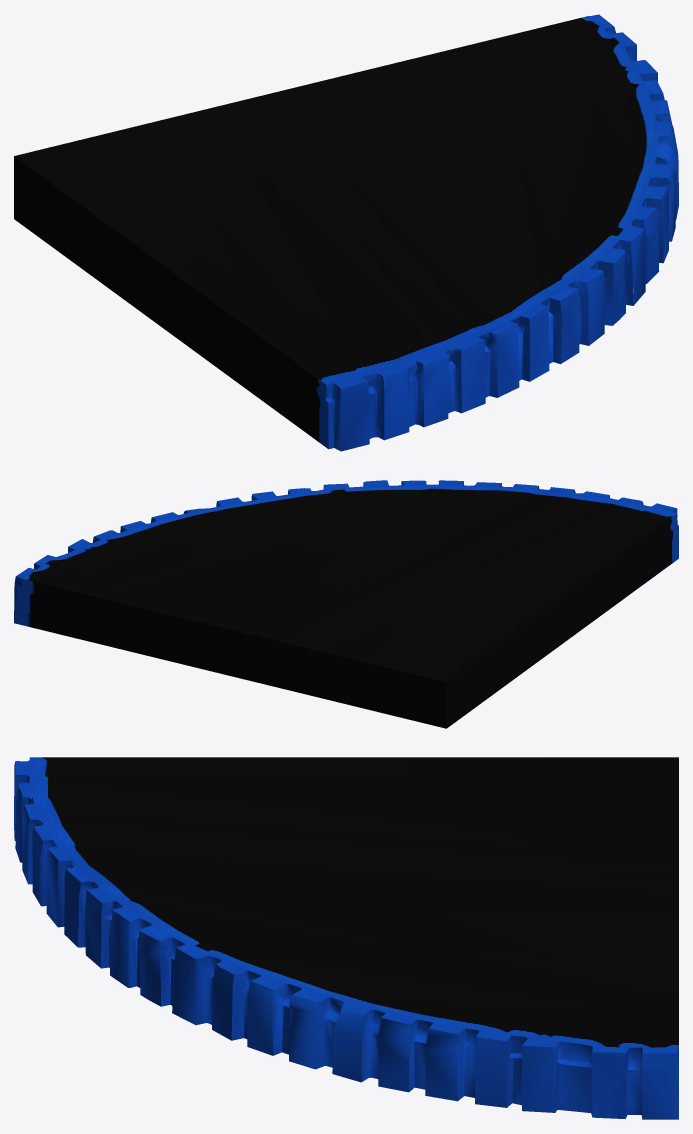
File: 10-roof-front-right.fbx
The picture shows the model from 3 angles, top to bottom: view 1: azimuth 30°, elevation 25°; view 2: azimuth 150°, elevation 25°; view 3: azimuth 270°, elevation 25°; orthographic projection. The views are drawn at different scales.
Visible parts, largest first — view 1: roof-front-right; view 2: roof-front-right; view 3: roof-front-right.
Part boxes in pixels (x1=…): roof-front-right: x1=14, y1=14, x2=678, y2=451; roof-front-right: x1=14, y1=480, x2=678, y2=728; roof-front-right: x1=14, y1=757, x2=678, y2=1119.
Bounding box in the file's own units: 4636 × 477 × 4385.
Materials: 1 (1 with a texture image).
